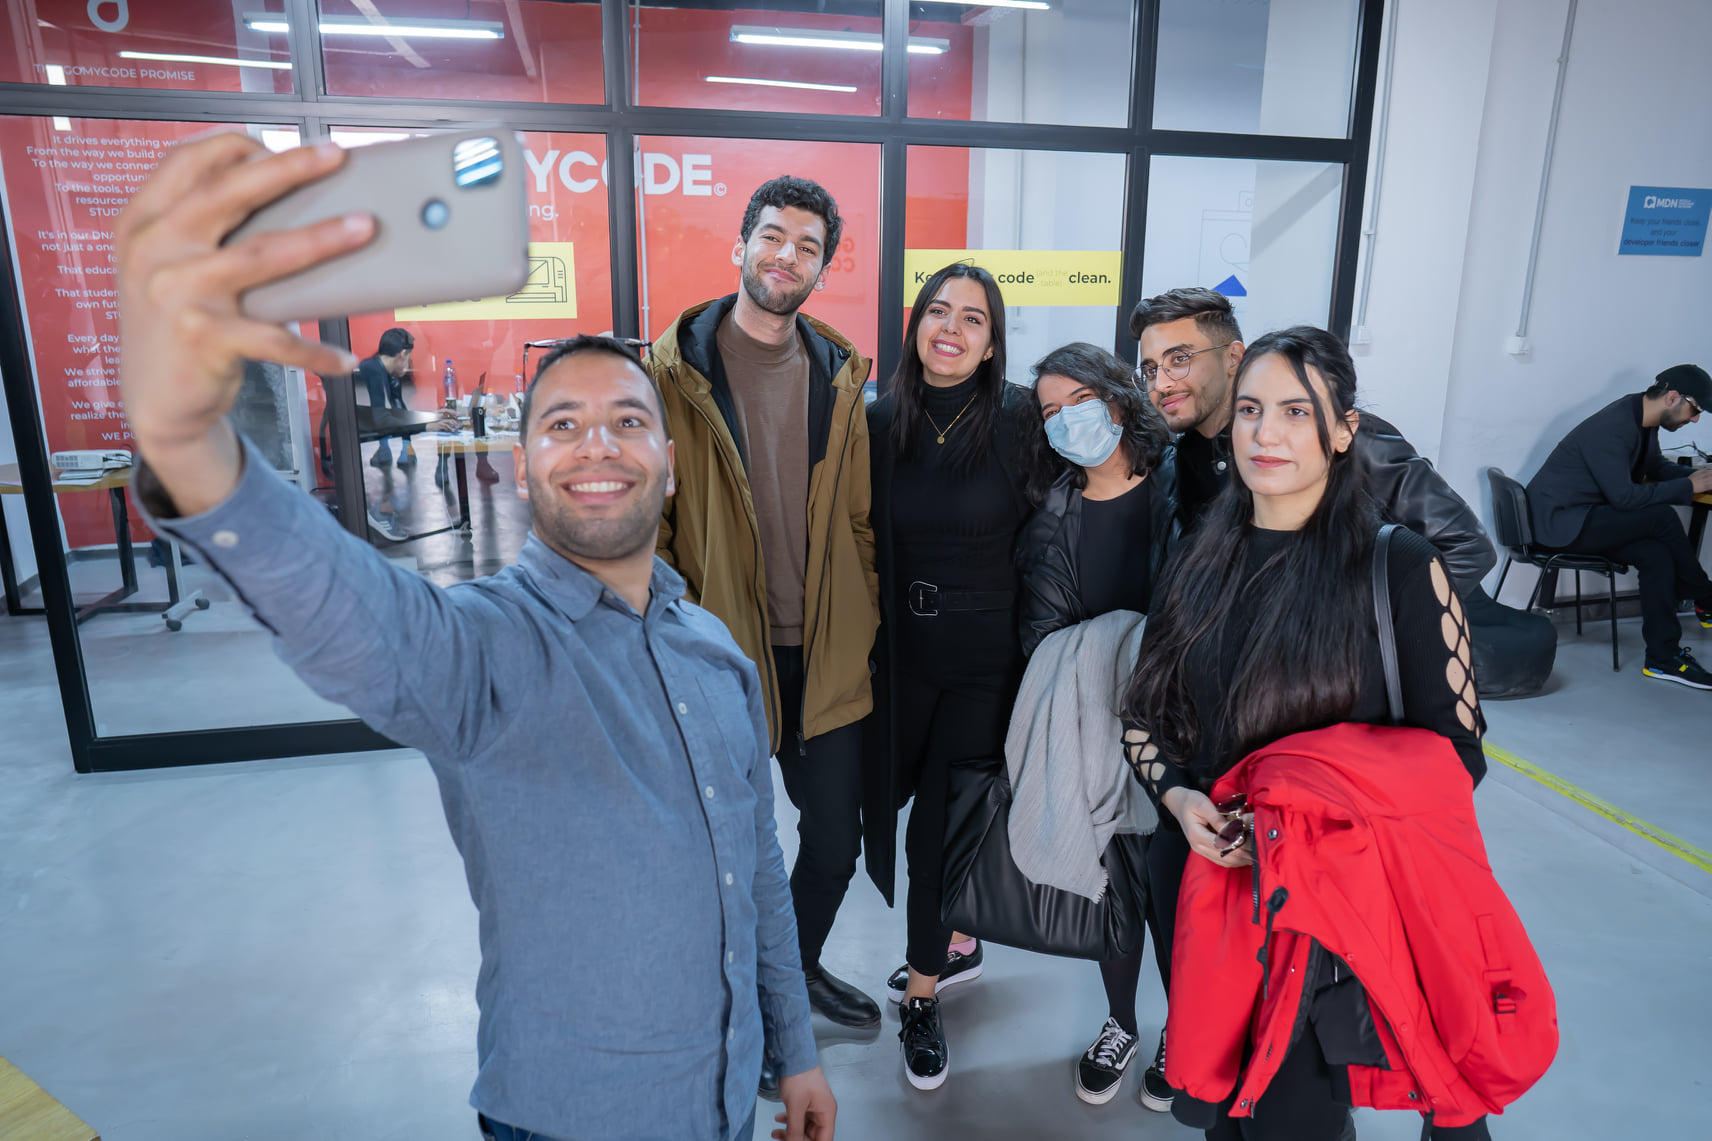without_mask: (535, 400, 660, 522), (1236, 389, 1320, 482), (1133, 339, 1216, 424), (754, 222, 820, 304), (925, 292, 989, 368), (1663, 393, 1703, 435)
